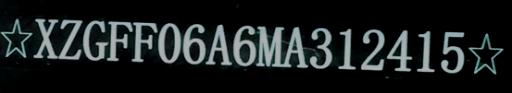letter: (130, 18, 158, 67), (204, 22, 234, 67), (106, 17, 132, 66), (386, 28, 414, 73), (440, 29, 466, 76), (256, 25, 284, 68), (282, 25, 310, 68), (82, 19, 108, 62), (360, 27, 386, 70), (157, 20, 181, 65), (232, 23, 256, 68), (309, 26, 333, 71), (33, 17, 57, 60), (58, 18, 82, 61), (182, 23, 206, 66), (414, 29, 436, 74), (336, 27, 358, 70)
